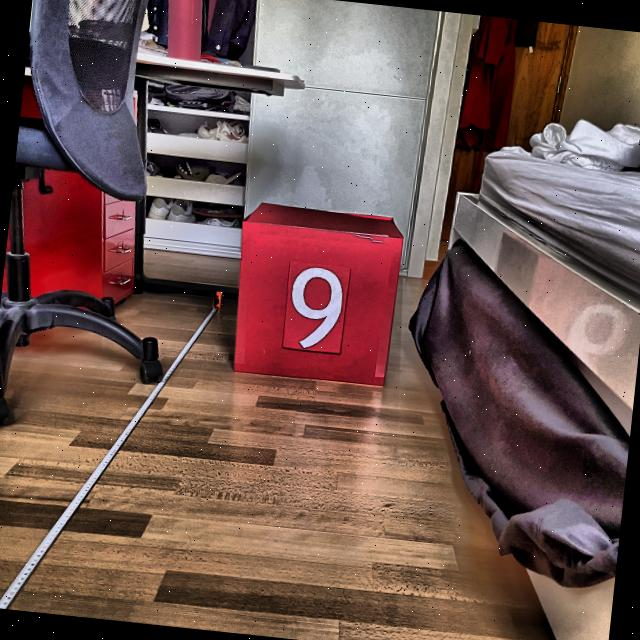nine: (286, 264, 348, 352)
red box: (227, 199, 404, 387)
